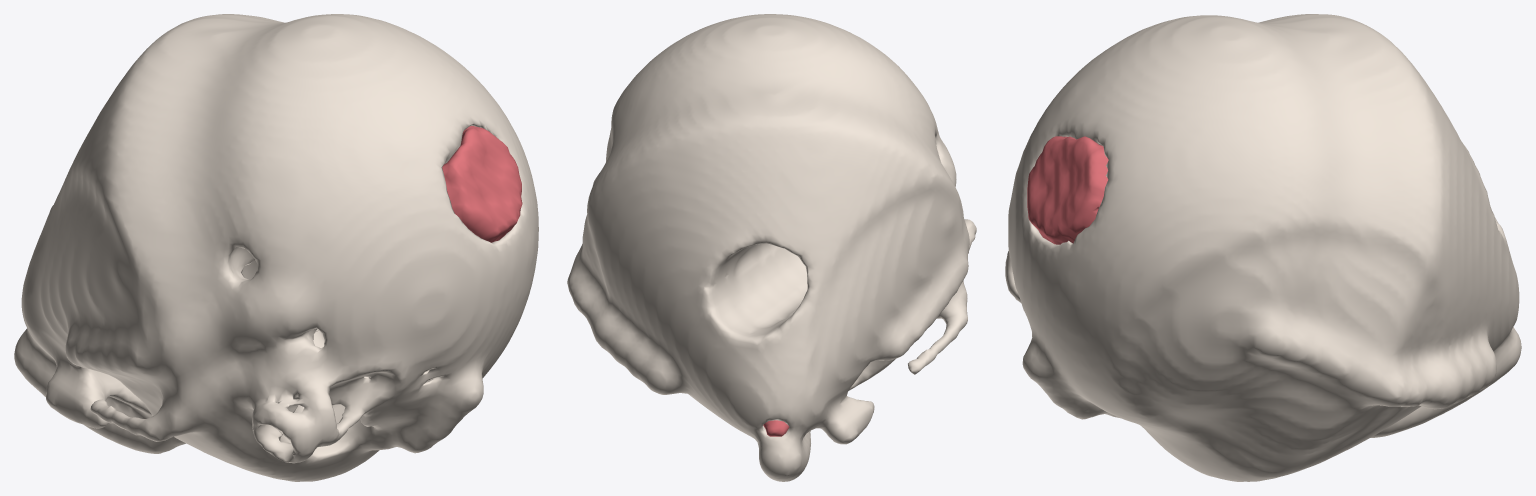
The model's file is case_02.glb.
3 views of the same model, side by side, from view 1: azimuth 30°, elevation 25°; view 2: azimuth 150°, elevation 25°; view 3: azimuth 270°, elevation 25° (orthographic). The views are drawn at different scales.
Parts seen in each view (by area): view 1: heart, pool; view 2: heart; view 3: heart, pool.
Boxes of the visible parts, box(x1,y1,x2,y2) form: heart: box(14, 14, 538, 481); pool: box(442, 126, 522, 242); heart: box(567, 14, 976, 481); heart: box(1005, 14, 1521, 481); pool: box(1027, 136, 1108, 244).
Size of the model in its own units: 126 by 133 by 138.
